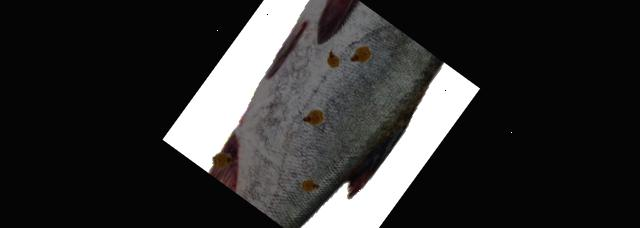Parasitic Disease: (208, 0, 442, 228)
